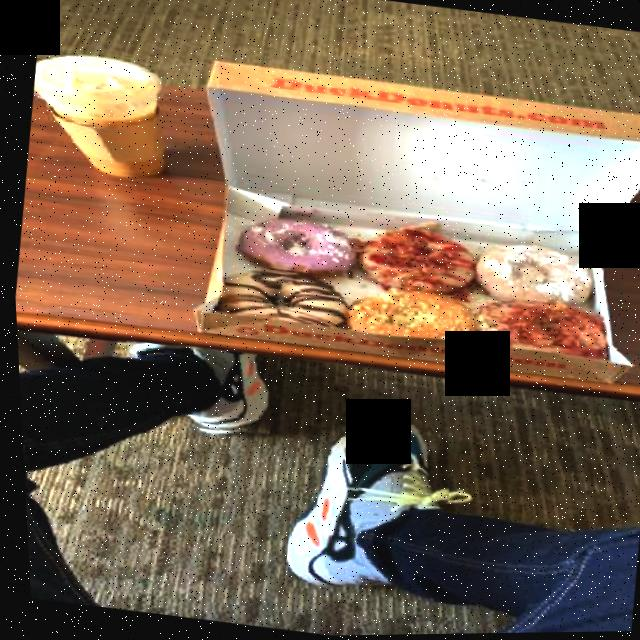shoe: (270, 407, 460, 610), (101, 337, 276, 445)
